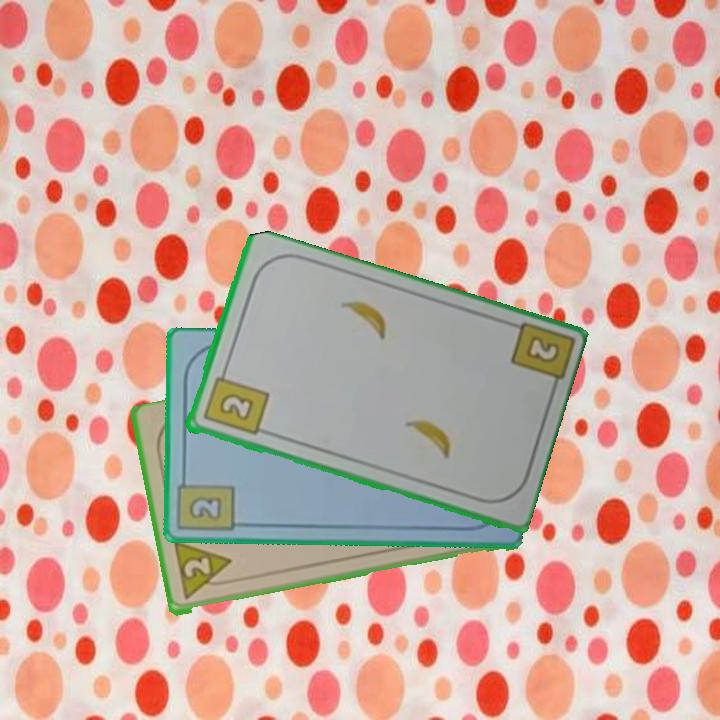2b: (199, 365, 271, 438), (175, 469, 237, 535), (521, 332, 563, 367)
2p: (180, 554, 213, 581)
